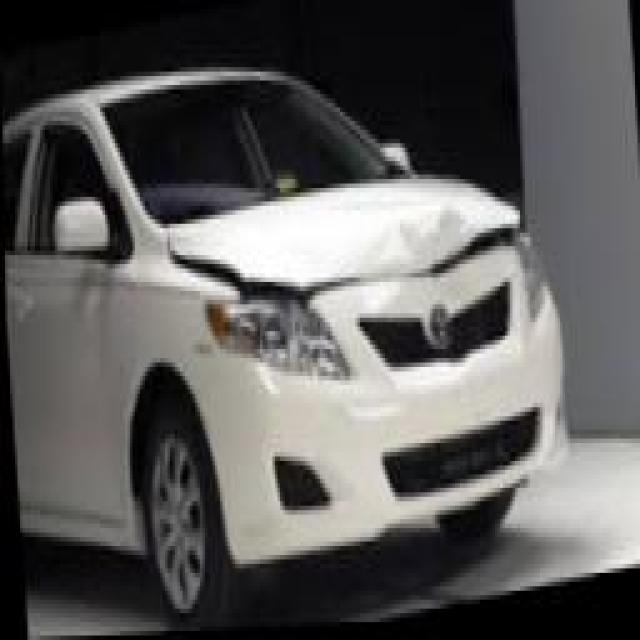Bonnet: (163, 176, 519, 293)
